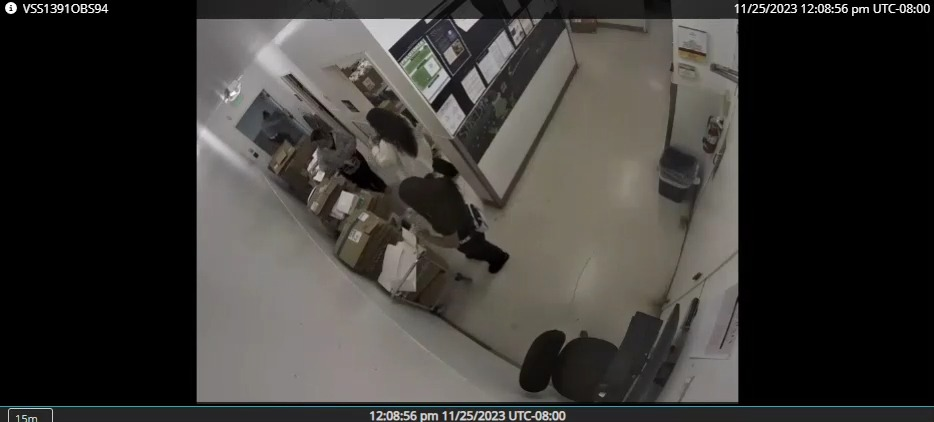No-gloves: (414, 222, 432, 245)
